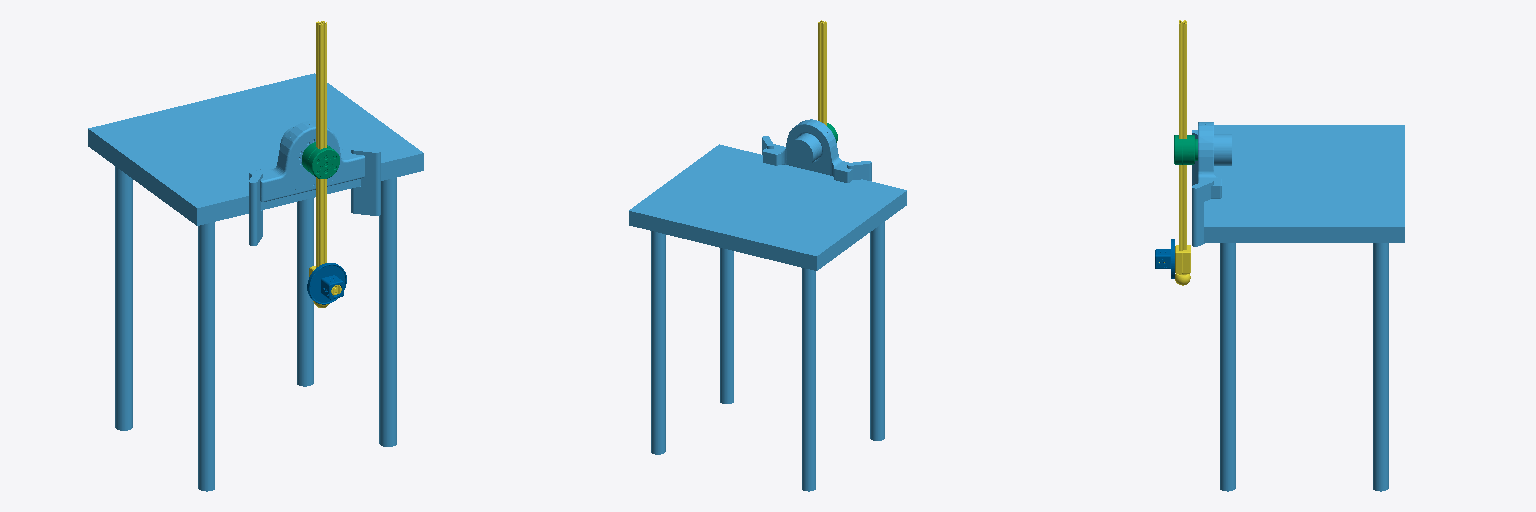
robot.urdf — pendulum:
<?xml version="1.0"?>
<!--
  Pendulum URDF — SWING-UP variant with COMPLIANT weight mount.

  Same physical build as pendulum_isaac_swingup.urdf, but the Weight joint
  (profile_700 → urdf_weight) is changed from FIXED to REVOLUTE with a
  small ±0.1 rad range about the bar's longitudinal axis.

  Why: the real aluminum bar (700 mm) with the 1.037 kg weight mounted off
  the bar's geometric centerline behaves like a torsional spring. We saw a
  high-Q vibration on the real X6 that disappears when the operator holds
  the weight (= damps that DOF). The base URDF treats the bar as rigid, so
  no sim could reproduce it. This variant adds the torsional DOF so it can.

  Modeled DOF (joint name "Weight"):
    - axis: in joint frame, X — which after rpy=(π, π/2, 0) maps to the
      profile_700 link's −Z (= bar long axis). So rotation here = torsion
      of the bar about its own long axis.
    - limit: ±0.1 rad (≈ ±5.7°) — well above any expected real twist.
    - damping=0.05 — light, to keep the mode under-damped (matches what we
      observed: the vibration rings for several cycles before settling).
    - friction=0 — bar twist isn't dry-friction-limited.

  IMPORTANT: URDF has no native joint stiffness. Loaders must add it:
    - MuJoCo: patch <joint stiffness=".." damping=".."/> after compile
      (pattern already used in scripts/mujoco_pd_policy.py for inertia).
      Suggested start: stiffness=200 N·m/rad → ω₀ = √(k/J) ≈ 200 rad/s
      (32 Hz) with weight Izz = 5e-3 kg·m². Tune to match the observed
      vibration frequency on the real hardware.
    - Isaac Lab: extend the articulation cfg with a second
      ImplicitActuatorCfg targeting joint_name="Weight" with stiffness
      and damping set there.
    - Gazebo: add a transmission + PD effort controller via xacro, OR use
      gz-sim's <joint><dynamics><spring_reference/><spring_stiffness/>
      extension.

  Weight COM is offset slightly in the link's Y by 5 mm (xyz y=0.005)
  vs the original (≈0). This creates a gravity moment arm for the
  compliance DOF — without offset, gravity exerts zero torque about the
  bar long axis and the mode would only be excited by joint acceleration
  cross-coupling. The real build has the weight bolted to one side of the
  profile's mounting plate, so this matches reality.

  Use this file for sim2sim experiments (MuJoCo, Gazebo). Do NOT train
  against this without first deciding whether the policy should observe
  the compliance state — the rotor-side joint_pos is unchanged, but the
  weight's inertia-coupled response shifts.
-->
<robot name="pendulum">

  <link name="base_link">
    <inertial>
      <mass value="0.001"/>
      <inertia ixx="0.000001" ixy="0" ixz="0" iyy="0.000001" iyz="0" izz="0.000001"/>
    </inertial>
  </link>

  <!-- Fixed base: table + menghina + motor housing -->
  <link name="urdf_masa">
    <inertial>
      <origin xyz="1.101e-09 -0.00216375 0.0537769" rpy="0 0 0"/>
      <mass value="16.32"/>
      <inertia ixx="0.925693" ixy="4.516e-09" ixz="1.9989e-08"
               iyy="1.0281"   iyz="0.0467944"
               izz="0.966281"/>
    </inertial>
    <visual>
      <origin xyz="-1.1089e-08 -0.223416 0.181468" rpy="-1.5708 0 3.14159"/>
      <geometry>
        <mesh filename="../../../src/pendulum_description/meshes/urdf_menghina.stl"/>
      </geometry>
    </visual>
    <collision>
      <origin xyz="-1.1089e-08 -0.223416 0.181468" rpy="-1.5708 0 3.14159"/>
      <geometry>
        <mesh filename="../../../src/pendulum_description/meshes/urdf_menghina.stl"/>
      </geometry>
    </collision>
    <visual>
      <origin xyz="-0 0.0156153 0.041001" rpy="-1.5708 -0 3.14159"/>
      <geometry>
        <mesh filename="../../../src/pendulum_description/meshes/urdf_masa.stl"/>
      </geometry>
    </visual>
    <collision>
      <origin xyz="-0 0.0156153 0.041001" rpy="-1.5708 -0 3.14159"/>
      <geometry>
        <mesh filename="../../../src/pendulum_description/meshes/urdf_masa.stl"/>
      </geometry>
    </collision>
    <visual>
      <origin xyz="-0 -0.191779 0.209622" rpy="-1.5708 0 3.14159"/>
      <geometry>
        <mesh filename="../../../src/pendulum_description/meshes/urdf_x6.stl"/>
      </geometry>
    </visual>
    <collision>
      <origin xyz="-0 -0.191779 0.209622" rpy="-1.5708 0 3.14159"/>
      <geometry>
        <mesh filename="../../../src/pendulum_description/meshes/urdf_x6.stl"/>
      </geometry>
    </collision>
  </link>

  <joint name="masa_to_base" type="fixed">
    <parent link="base_link"/>
    <child link="urdf_masa"/>
    <origin xyz="0 0 0" rpy="0 0 0"/>
  </joint>

  <!-- Rotor (rotates with motor) -->
  <link name="urdf_spacer">
    <inertial>
      <origin xyz="-9.40034e-07 3.43567e-06 -0.0451209" rpy="0 0 0"/>
      <mass value="0.277"/>
      <inertia ixx="0.000204906" ixy="3.75e-10" ixz="1.0966e-08"
               iyy="0.000188403" iyz="5.527e-09"
               izz="0.000195731"/>
    </inertial>
    <visual>
      <origin xyz="-0 0 -0.0387375" rpy="-3.14159 -0 -3.14159"/>
      <geometry>
        <mesh filename="../../../src/pendulum_description/meshes/urdf_rotor_base.stl"/>
      </geometry>
    </visual>
    <collision>
      <origin xyz="-0 0 -0.0387375" rpy="-3.14159 -0 -3.14159"/>
      <geometry>
        <mesh filename="../../../src/pendulum_description/meshes/urdf_rotor_base.stl"/>
      </geometry>
    </collision>
    <visual>
      <origin xyz="-1.03149e-05 -0 -0.012" rpy="-3.14159 -0 1.5708"/>
      <geometry>
        <mesh filename="../../../src/pendulum_description/meshes/urdf_spacer.stl"/>
      </geometry>
    </visual>
    <collision>
      <origin xyz="-1.03149e-05 -0 -0.012" rpy="-3.14159 -0 1.5708"/>
      <geometry>
        <mesh filename="../../../src/pendulum_description/meshes/urdf_spacer.stl"/>
      </geometry>
    </collision>
    <visual>
      <origin xyz="1.33413e-07 -1.26979e-06 -0.065381" rpy="-3.14159 -0 -3.14159"/>
      <geometry>
        <mesh filename="../../../src/pendulum_description/meshes/urdf_rotor_lid.stl"/>
      </geometry>
    </visual>
    <collision>
      <origin xyz="1.33413e-07 -1.26979e-06 -0.065381" rpy="-3.14159 -0 -3.14159"/>
      <geometry>
        <mesh filename="../../../src/pendulum_description/meshes/urdf_rotor_lid.stl"/>
      </geometry>
    </collision>
  </link>

  <!-- Motor joint: CONTINUOUS (no limits) for swing-up. -->
  <joint name="pendulum_joint" type="continuous">
    <origin xyz="-0 -0.227029 0.209622" rpy="-1.5708 1.5708 0"/>
    <parent link="urdf_masa"/>
    <child link="urdf_spacer"/>
    <axis xyz="0 0 1"/>
    <dynamics damping="0.065" friction="0.0"/>
  </joint>

  <!-- 700mm profile + weight mount (fixed to rotor) -->
  <link name="urdf_profile_700">
    <inertial>
      <origin xyz="-0.00432073 -4.9393e-08 -0.445007" rpy="0 0 0"/>
      <mass value="0.525"/>
      <inertia ixx="0.0286674" ixy="1.26e-10" ixz="-0.000466791"
               iyy="0.0287381" iyz="-6.06e-09"
               izz="0.000160326"/>
    </inertial>
    <visual>
      <origin xyz="0 -0 -0.35" rpy="0 -1.5708 0"/>
      <geometry>
        <mesh filename="../../../src/pendulum_description/meshes/urdf_profile_700.stl"/>
      </geometry>
    </visual>
    <collision>
      <origin xyz="0 -0 -0.35" rpy="0 -1.5708 0"/>
      <geometry>
        <mesh filename="../../../src/pendulum_description/meshes/urdf_profile_700.stl"/>
      </geometry>
    </collision>
    <visual>
      <origin xyz="-1.6356e-08 -0 0.0033423" rpy="-0 1.5708 0"/>
      <geometry>
        <mesh filename="../../../src/pendulum_description/meshes/urdf_cap.stl"/>
      </geometry>
    </visual>
    <collision>
      <origin xyz="-1.6356e-08 -0 0.0033423" rpy="-0 1.5708 0"/>
      <geometry>
        <mesh filename="../../../src/pendulum_description/meshes/urdf_cap.stl"/>
      </geometry>
    </collision>
    <visual>
      <origin xyz="0.0108614 -5.77328e-07 -0.650001" rpy="0 -1.5708 0"/>
      <geometry>
        <mesh filename="../../../src/pendulum_description/meshes/urdf_weight_base.stl"/>
      </geometry>
    </visual>
    <collision>
      <origin xyz="0.0108614 -5.77328e-07 -0.650001" rpy="0 -1.5708 0"/>
      <geometry>
        <mesh filename="../../../src/pendulum_description/meshes/urdf_weight_base.stl"/>
      </geometry>
    </collision>
    <visual>
      <origin xyz="-0.00949929 -1.15e-10 -0.650649" rpy="-0 -1.5708 0"/>
      <geometry>
        <mesh filename="../../../src/pendulum_description/meshes/urdf_weight_lid.stl"/>
      </geometry>
    </visual>
    <collision>
      <origin xyz="-0.00949929 -1.15e-10 -0.650649" rpy="-0 -1.5708 0"/>
      <geometry>
        <mesh filename="../../../src/pendulum_description/meshes/urdf_weight_lid.stl"/>
      </geometry>
    </collision>
    <visual>
      <origin xyz="1.6356e-08 -0 -0.703342" rpy="0 -1.5708 0"/>
      <geometry>
        <mesh filename="../../../src/pendulum_description/meshes/urdf_cap2.stl"/>
      </geometry>
    </visual>
    <collision>
      <origin xyz="1.6356e-08 -0 -0.703342" rpy="0 -1.5708 0"/>
      <geometry>
        <mesh filename="../../../src/pendulum_description/meshes/urdf_cap2.stl"/>
      </geometry>
    </collision>
    <visual>
      <origin xyz="-0.0372188 2e-12 -0.650649" rpy="-0 -1.5708 0"/>
      <geometry>
        <mesh filename="../../../src/pendulum_description/meshes/urdf_weight_shaft.stl"/>
      </geometry>
    </visual>
    <collision>
      <origin xyz="-0.0372188 2e-12 -0.650649" rpy="-0 -1.5708 0"/>
      <geometry>
        <mesh filename="../../../src/pendulum_description/meshes/urdf_weight_shaft.stl"/>
      </geometry>
    </collision>
  </link>

  <joint name="Profile" type="fixed">
    <origin xyz="-0.35 -0 -0.0541" rpy="0 -1.5708 0"/>
    <parent link="urdf_spacer"/>
    <child link="urdf_profile_700"/>
  </joint>

  <!-- Weight (stopper + mass) — COM offset 5 mm in Y to model real-world
       off-axis mounting on the profile mounting plate. This creates a
       gravity moment arm about the compliance axis (bar long axis) so the
       torsional mode is excited both inertially and by gravity. -->
  <link name="urdf_weight">
    <inertial>
      <origin xyz="0.0 0.005 0.00721586" rpy="0 0 0"/>
      <mass value="1.037"/>
      <inertia ixx="0.000384095" ixy="-2.829e-09" ixz="2e-12"
               iyy="0.000384111" iyz="-1.4e-11"
               izz="0.000710724"/>
    </inertial>
    <visual>
      <origin xyz="-2.991e-09 1.2324e-08 0.0304031" rpy="-0 0 0"/>
      <geometry>
        <mesh filename="../../../src/pendulum_description/meshes/urdf_weight_stopper.stl"/>
      </geometry>
    </visual>
    <collision>
      <origin xyz="-2.991e-09 1.2324e-08 0.0304031" rpy="-0 0 0"/>
      <geometry>
        <mesh filename="../../../src/pendulum_description/meshes/urdf_weight_stopper.stl"/>
      </geometry>
    </collision>
    <visual>
      <origin xyz="0 -0 0.0055" rpy="0 0 0"/>
      <geometry>
        <mesh filename="../../../src/pendulum_description/meshes/urdf_weight.stl"/>
      </geometry>
    </visual>
    <collision>
      <origin xyz="0 -0 0.0055" rpy="0 0 0"/>
      <geometry>
        <mesh filename="../../../src/pendulum_description/meshes/urdf_weight.stl"/>
      </geometry>
    </collision>
  </link>

  <!-- Weight joint: REVOLUTE compliance about the bar's long axis.
       Joint X axis maps to profile_700's −Z (bar long axis) via the rpy
       rotation here. ±0.1 rad limit is generous; real twist is sub-degree.
       URDF damping only — stiffness must be added by the simulator loader
       (see header comment for details). -->
  <joint name="Weight" type="revolute">
    <origin xyz="-0.0182 -0 -0.65" rpy="3.14159 1.5708 0"/>
    <parent link="urdf_profile_700"/>
    <child link="urdf_weight"/>
    <axis xyz="1 0 0"/>
    <limit lower="-0.1" upper="0.1" effort="100" velocity="50"/>
    <dynamics damping="0.05" friction="0.0"/>
  </joint>

</robot>

--- What the picture shows (computed from the rendered views, not written in the file) ---
Views: 3 orthographic renders of the robot side by side, from view 1: azimuth 30°, elevation 25°; view 2: azimuth 150°, elevation 25°; view 3: azimuth 270°, elevation 25°.
Model pendulum with 5 links and 4 joints (1 revolute, 1 continuous, 2 fixed), rooted at base_link, posed all joints at 0.
Visible links, largest first — view 1: urdf_masa, urdf_profile_700, urdf_weight, urdf_spacer; view 2: urdf_masa, urdf_profile_700; view 3: urdf_masa, urdf_profile_700, urdf_spacer.
Link boxes in pixels (x1,y1,x2,y2): urdf_masa: (88, 73, 423, 491); urdf_profile_700: (309, 21, 341, 307); urdf_weight: (307, 263, 346, 304); urdf_spacer: (302, 142, 339, 178); urdf_masa: (629, 119, 906, 491); urdf_profile_700: (818, 20, 826, 125); urdf_masa: (1192, 122, 1404, 491); urdf_profile_700: (1159, 20, 1190, 285); urdf_spacer: (1174, 135, 1197, 164).
Bounding box of the posed robot: 0.6 × 0.6203 × 1.17 m (x, y, z).
Meshes: 14 distinct files referenced, 13 mesh visuals loaded (13 binary STL); not drawn: 1 (reference not matched to a file when rendering).
